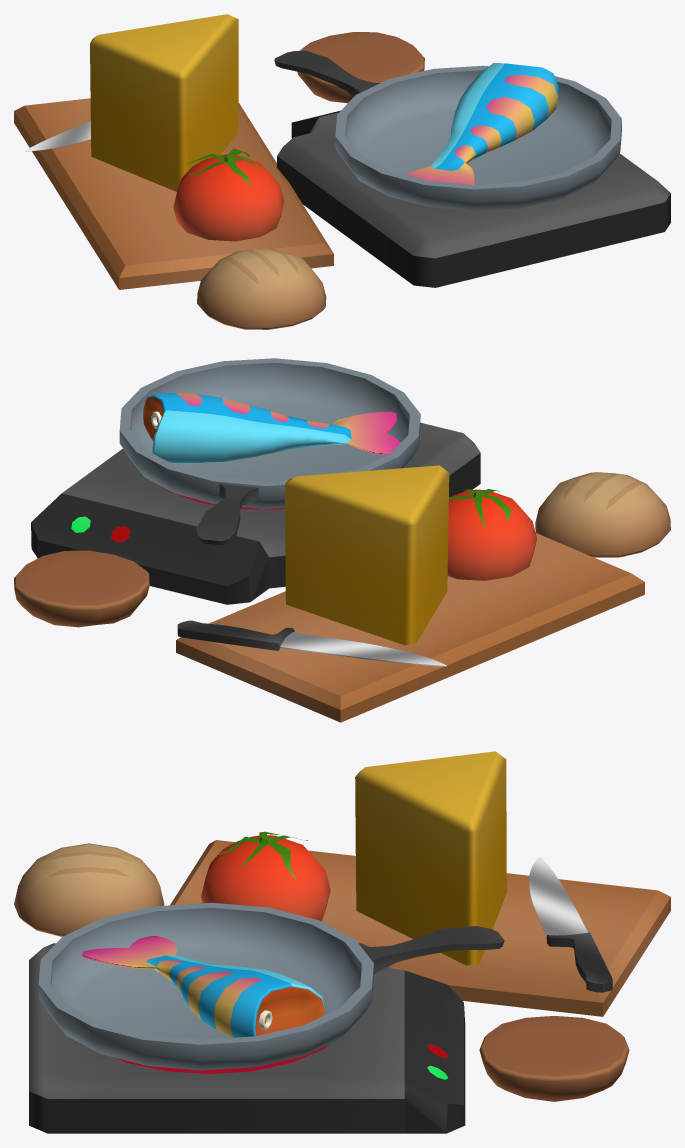
The model's file is Station Fish burger.fbx.
3 renders of one model, top to bottom at view 1: azimuth 30°, elevation 25°; view 2: azimuth 150°, elevation 25°; view 3: azimuth 270°, elevation 25°, orthographic. The views are drawn at different scales.
Visible parts, largest first — view 1: Station_Fish_burger; view 2: Station_Fish_burger; view 3: Station_Fish_burger.
Boxes of the visible parts, x1,y1,x2,y2 form: Station_Fish_burger: (14,14,670,329); Station_Fish_burger: (14,358,670,722); Station_Fish_burger: (14,751,670,1133).
Bounding box in the file's own units: 186 × 55 × 187.
